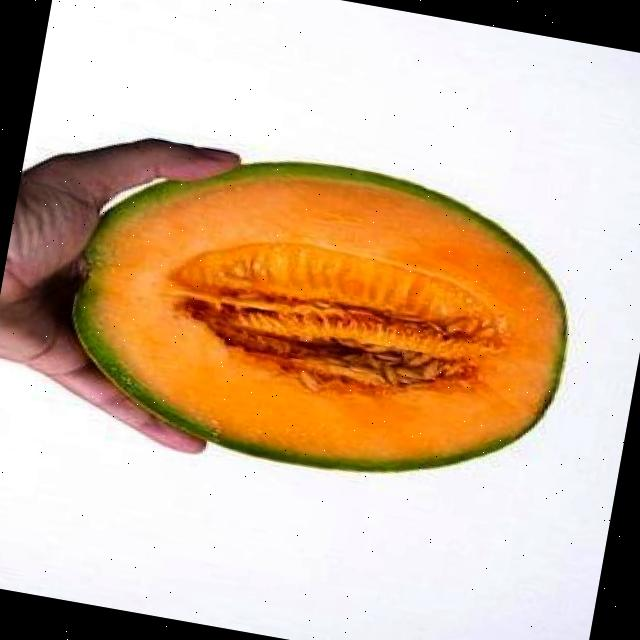Hami Melon: (48, 120, 593, 502)
